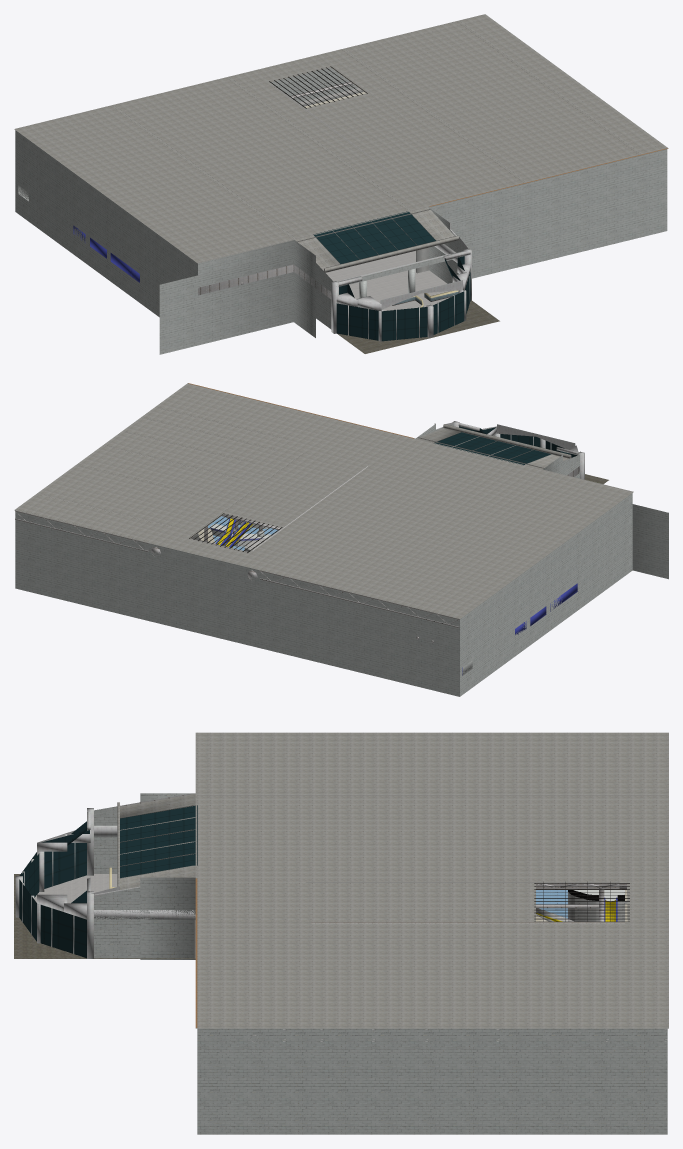
Rendered from Waterworld3.obj.
3 renders of one model, top to bottom at view 1: azimuth 30°, elevation 25°; view 2: azimuth 150°, elevation 25°; view 3: azimuth 270°, elevation 25°, orthographic. The views are drawn at different scales.
Bounding box in the file's own units: 67.96 × 10.6 × 58.84.
